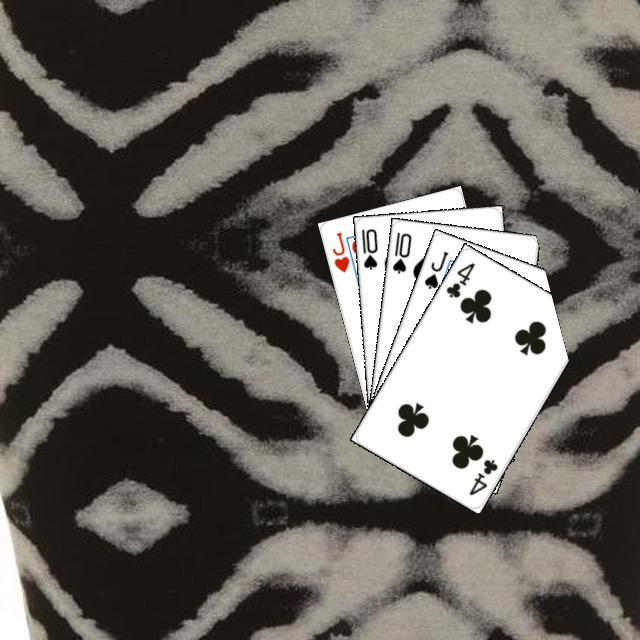10s: (387, 227, 413, 275), (356, 224, 379, 271)
4c: (441, 257, 477, 300), (464, 454, 499, 497)
Jh: (327, 227, 351, 274)
Js: (419, 246, 450, 291)
